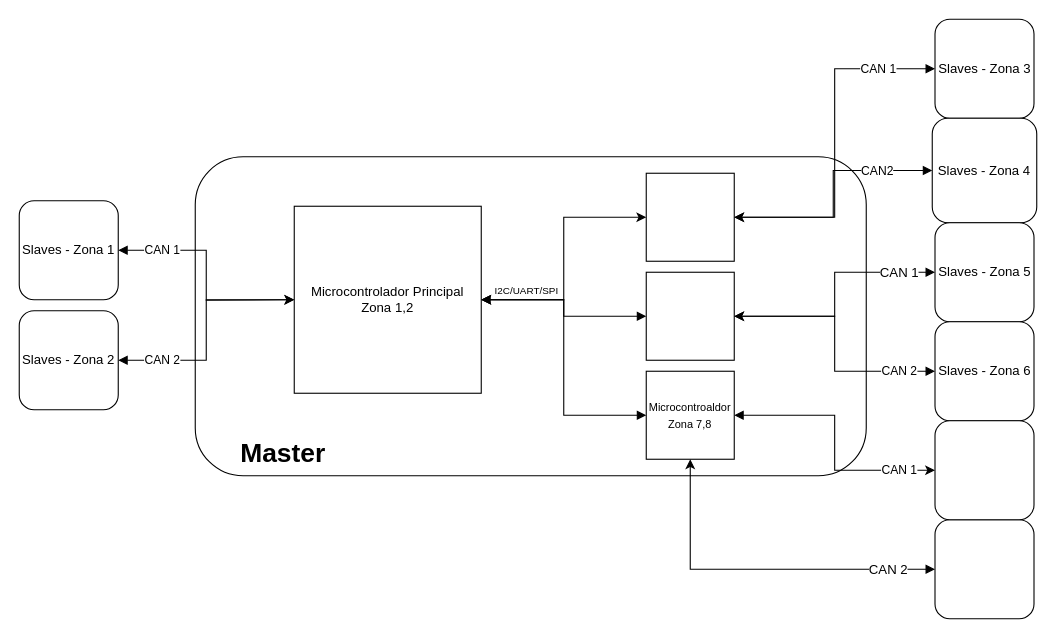
Some shapes in this 1056 by 638 pixel diagram are drawn without their labels. Here are the shapes that lost their labels. From the top down, the centre of each, then its label:
[689,216]: MicroControlador Zona 3,4
[689,315]: MicroControlador Zona 5,6
[984,470]: Slaves - Zona 7
[984,569]: Slaves - Zona 8
